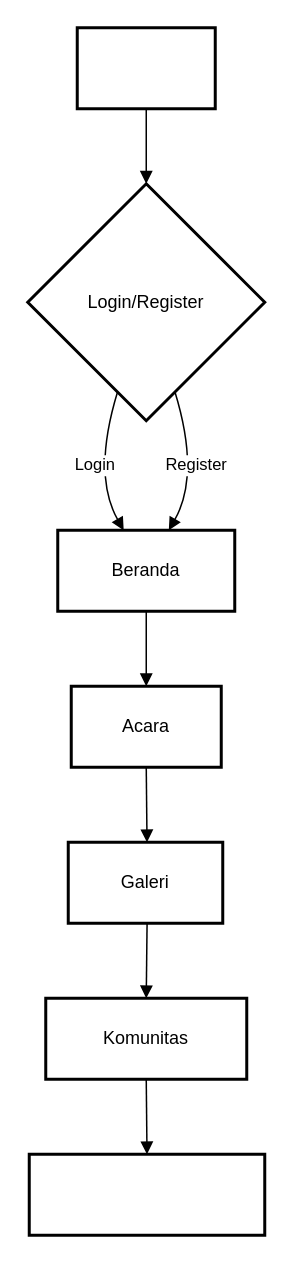
Some shapes in this 291 by 1262 pixel diagram are drawn without their labels. The centre of each missing label's shape, as x and y in pixels:
"Tentang Kami" goes at [146,1194].
"User" goes at [145,68].
